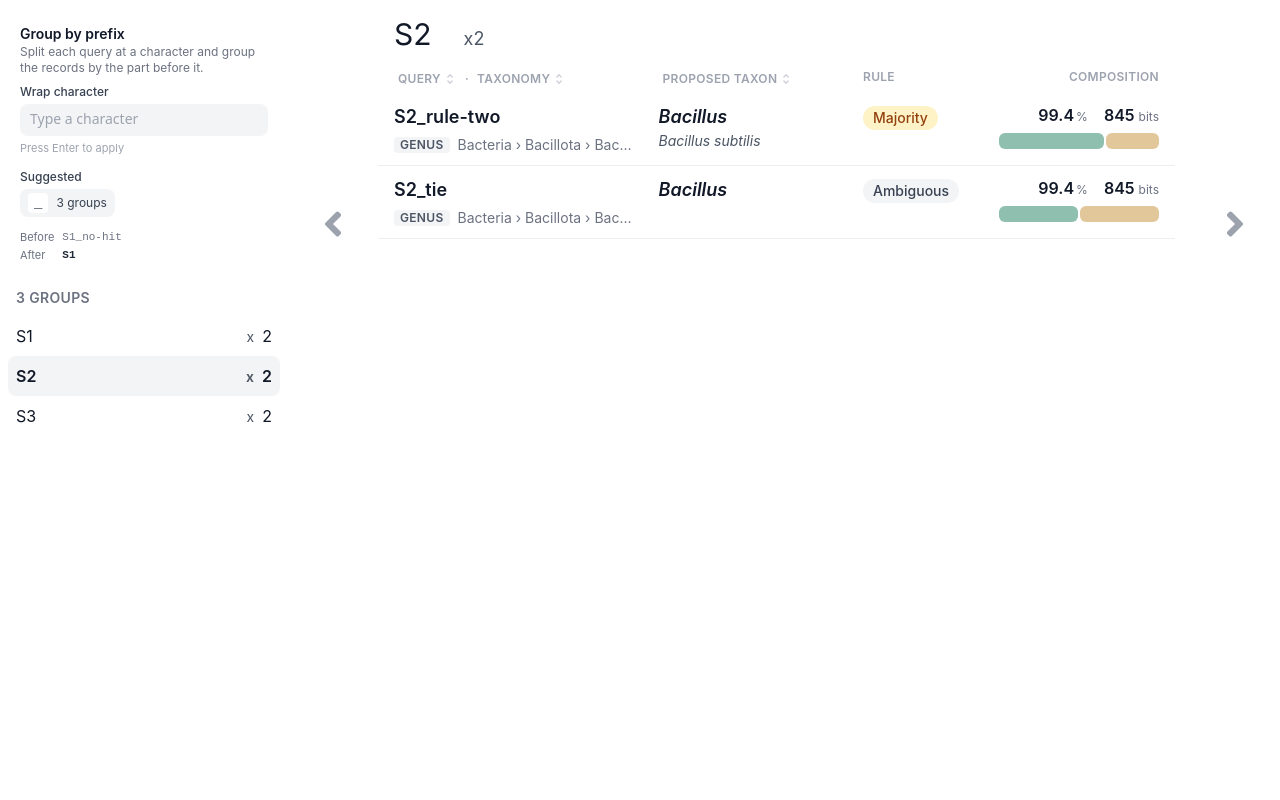
Test: GroupedByQueryView/Grouped › clicking a query opens the consensus modal; Close dismisses it
Step 1. Click the button "S2_rule-two" → click(447, 117), box 394,103 -> 500,131
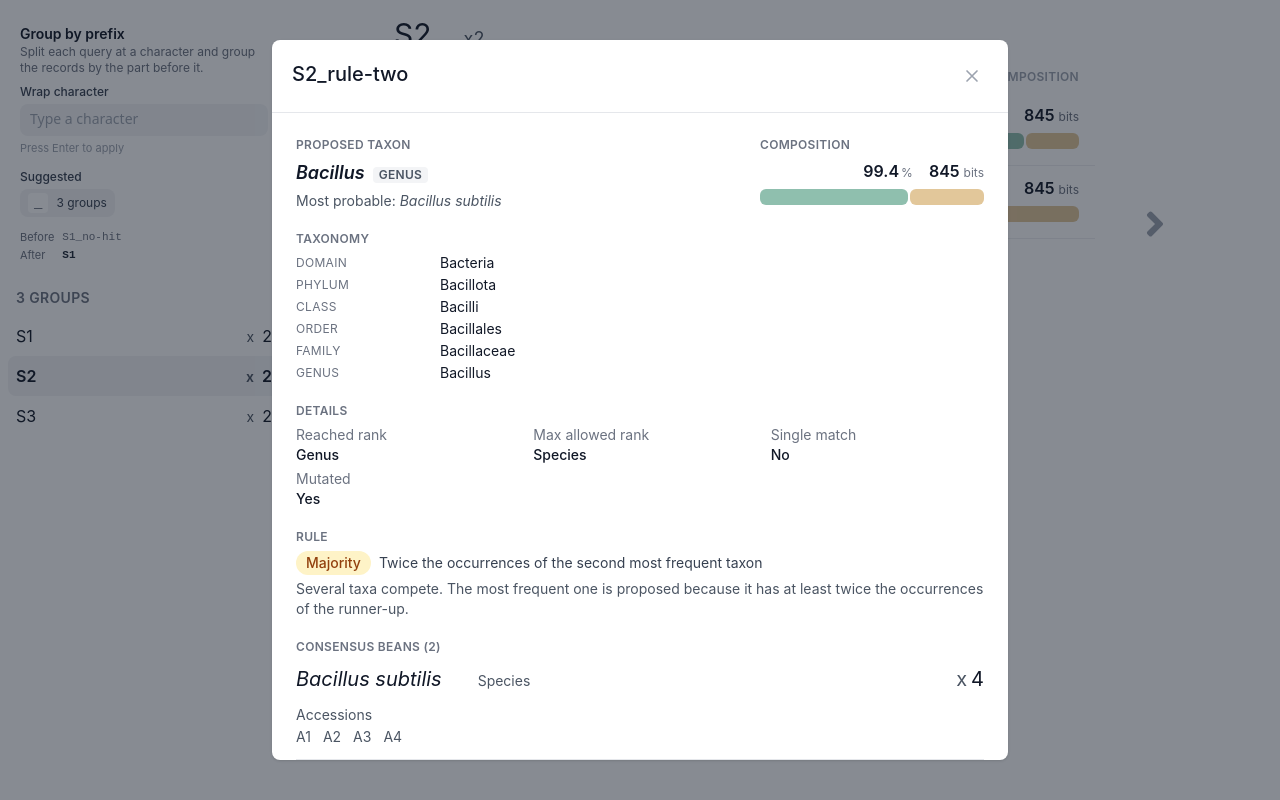
Now the heading "S2_rule-two" is shown, box 292,62 -> 408,86
Step 2. Click the button named "Close" → click(972, 76), box 956,60 -> 988,92
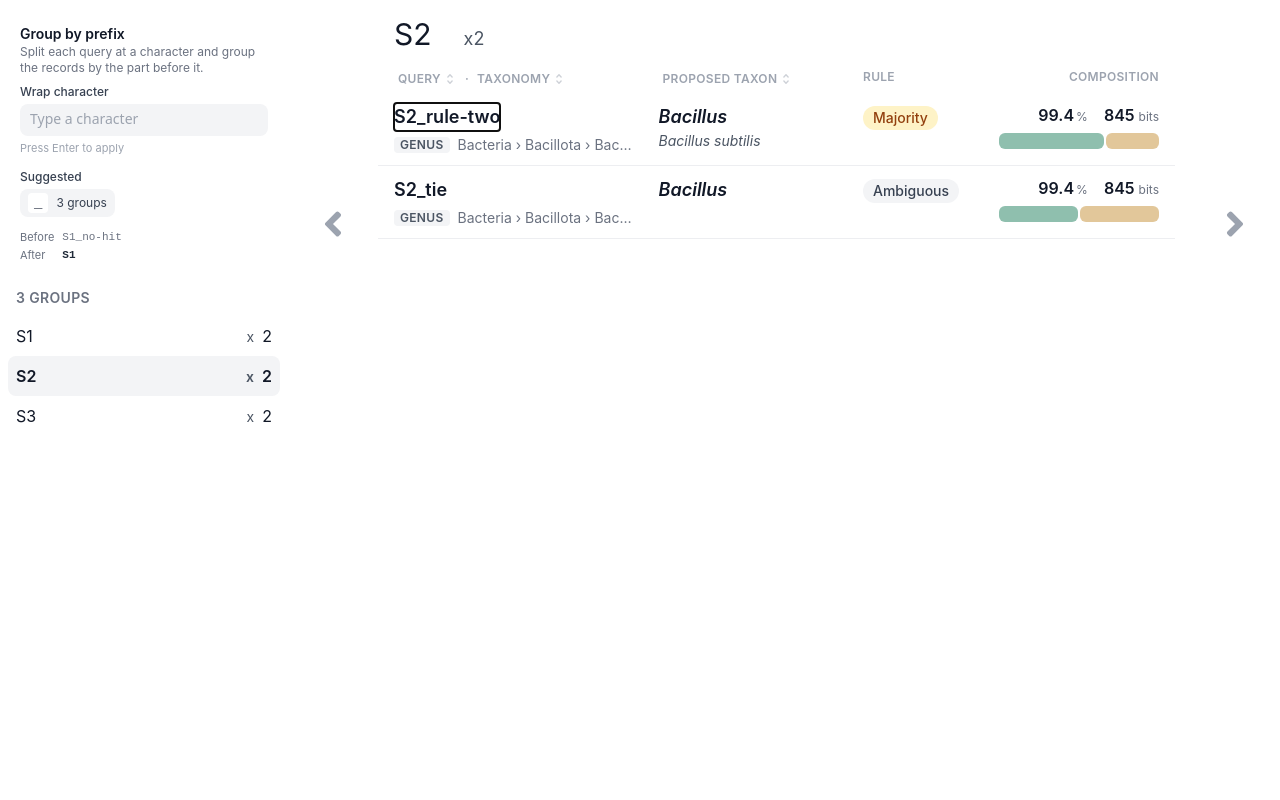
Now the dialog is gone
